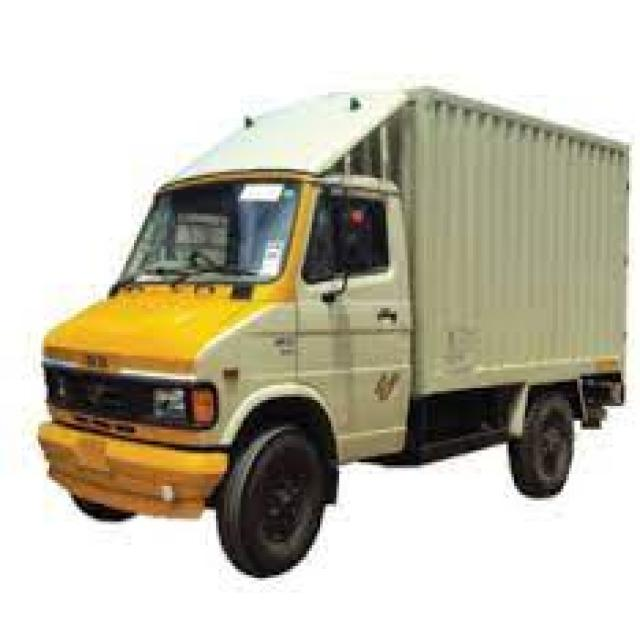Tempo: (38, 72, 640, 588)
